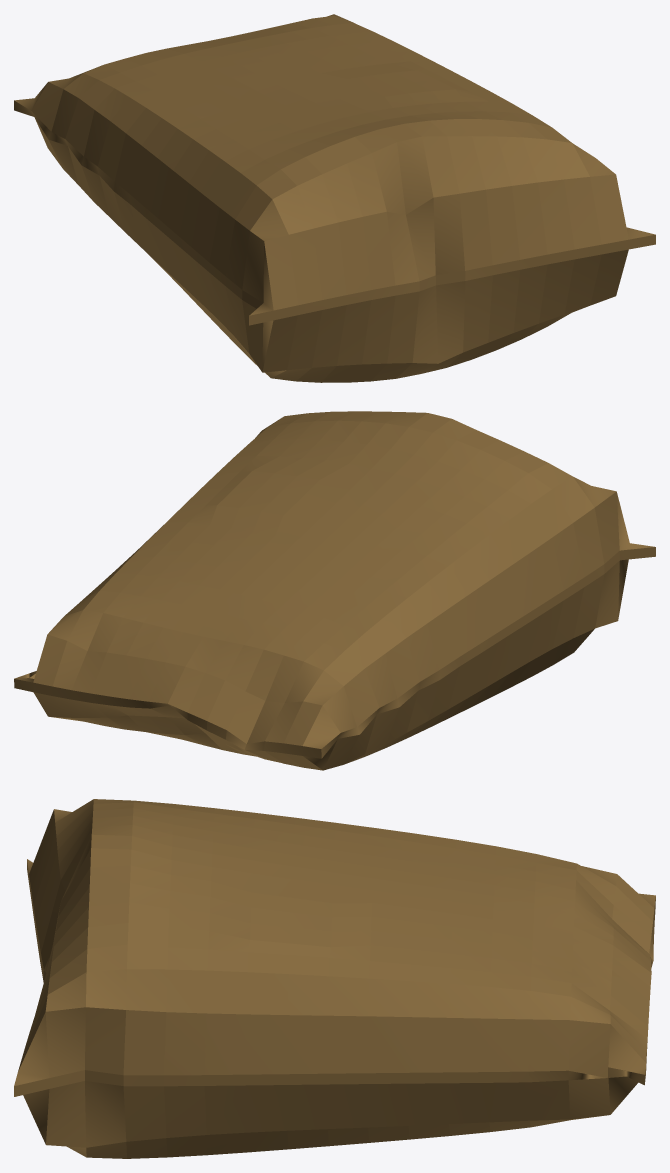
The model's file is CoffeeBag.fbx.
3 renders of one model, top to bottom at view 1: azimuth 30°, elevation 25°; view 2: azimuth 150°, elevation 25°; view 3: azimuth 270°, elevation 25°, orthographic. The views are drawn at different scales.
Parts seen in each view (by area): view 1: Plane.003; view 2: Plane.003; view 3: Plane.003.
Part boxes in pixels (x1,y1,x2,y2): Plane.003: [14, 14, 655, 382]; Plane.003: [14, 411, 655, 770]; Plane.003: [14, 799, 655, 1158].
Bounding box in the file's own units: 0.176 × 0.0995 × 0.2231.
